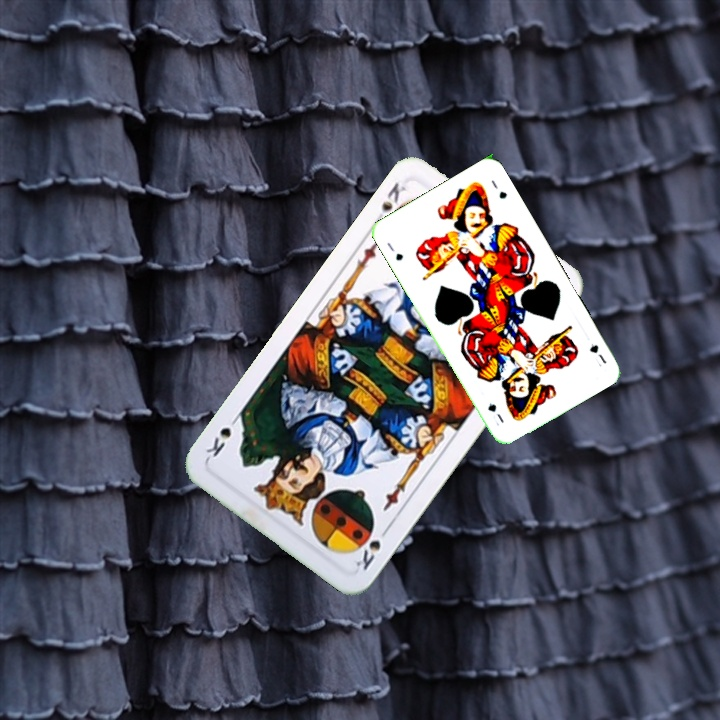GU: (585, 339, 609, 366), (383, 238, 406, 263)
SK: (351, 521, 393, 573), (369, 178, 409, 228)
